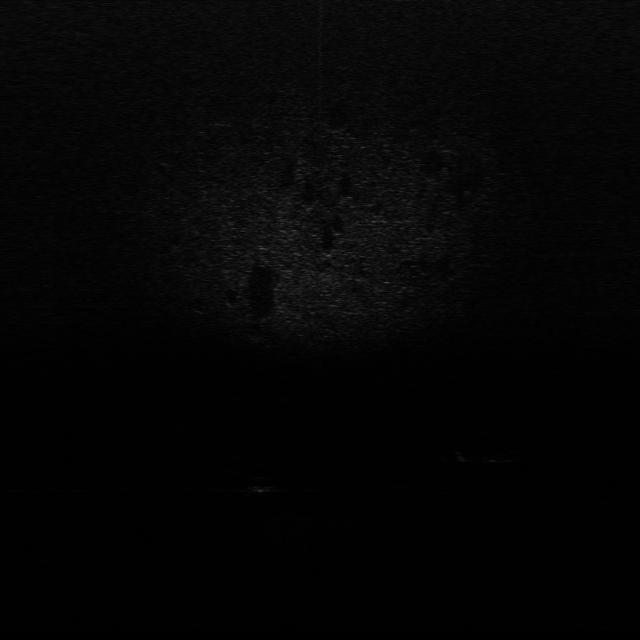ball: (243, 473, 281, 497)
human body: (448, 440, 540, 468)
